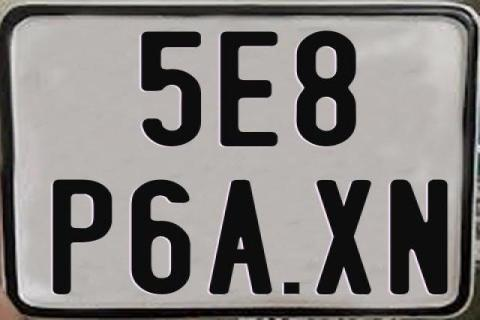0: (139, 31, 204, 149), (131, 179, 196, 297), (296, 29, 358, 149)
A: (207, 179, 274, 293)
E: (218, 29, 280, 147)
N: (390, 180, 454, 298)
P: (52, 178, 113, 296)
X: (316, 180, 374, 297)
